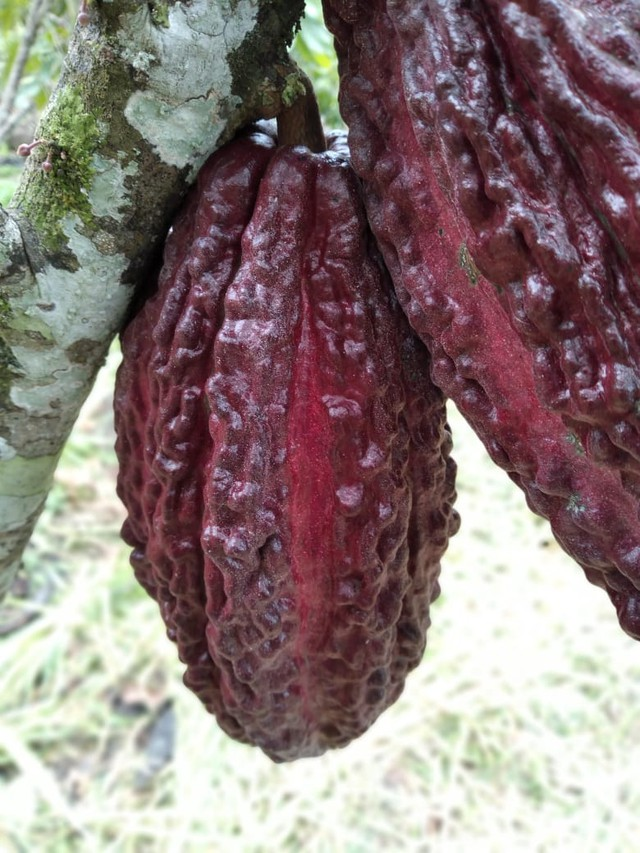Health: (105, 104, 465, 768)
